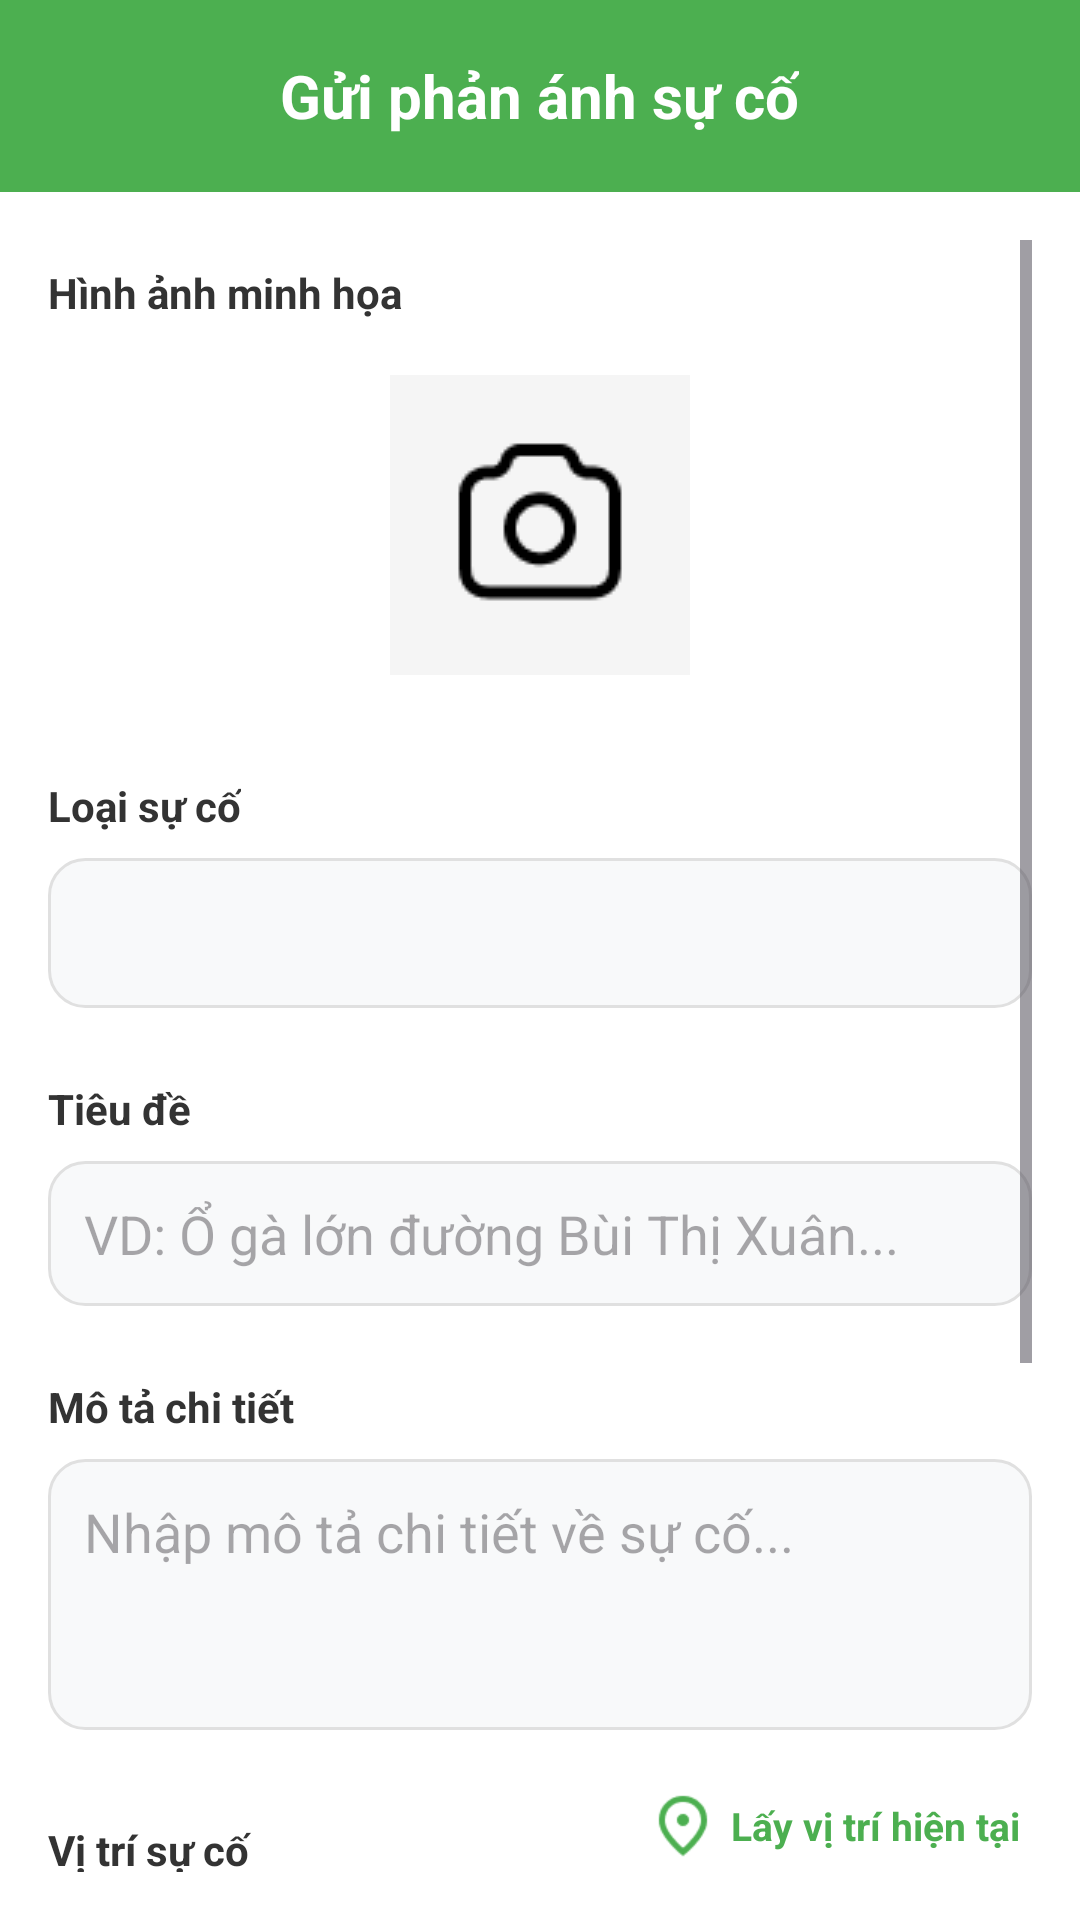

Locate icon controls on the screen. Image size 1080x1920, boxes as (x1, y1, x2, y2).
camera: (390, 375, 690, 675)
location: (658, 1795, 708, 1856)
